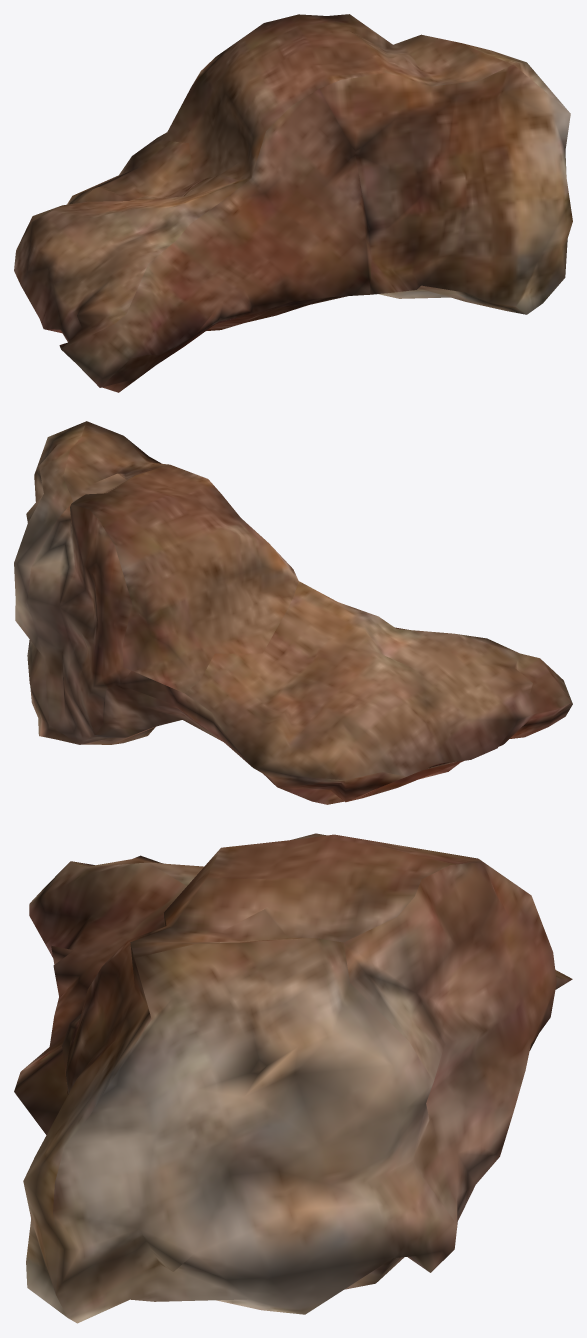
The model's file is rock-stone-01.lite.04559292.glb.
The picture shows the model from 3 angles, top to bottom: view 1: azimuth 30°, elevation 25°; view 2: azimuth 150°, elevation 25°; view 3: azimuth 270°, elevation 25°; orthographic projection. The views are drawn at different scales.
Parts seen in each view (by area): view 1: model; view 2: model; view 3: model.
Boxes of the visible parts, bbox=[...] form: model: bbox=[14, 14, 572, 392]; model: bbox=[14, 421, 572, 804]; model: bbox=[14, 833, 572, 1323].
Size of the model in its own units: 0.1462 by 0.0706 by 0.0886.
Materials: 1 (1 with a texture image).
